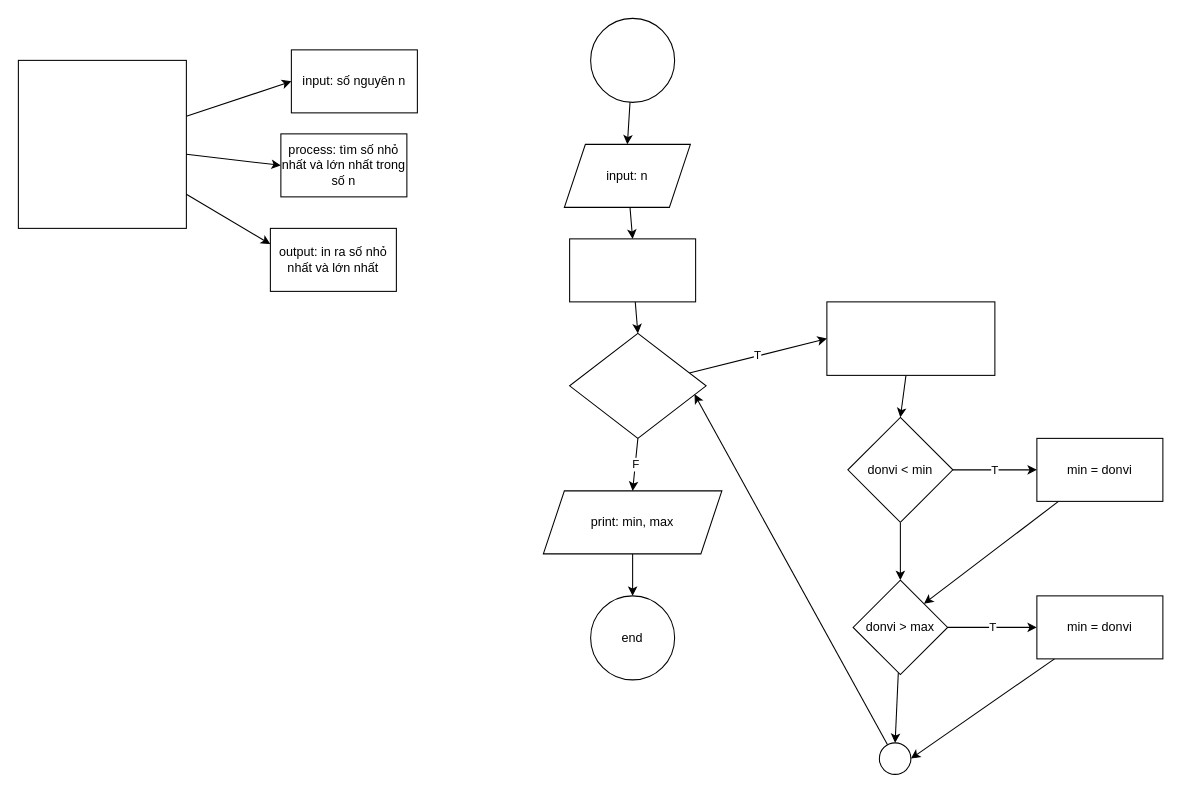
This 1181x793 diagram has some shape labels left out. The box of each missing label's shape, as (x1, y1, x2, y2) in pixels:
donvi = n % 10 n = n / 10: (826, 301, 995, 375)
min = n % 10 max = min n = n / 10: (569, 238, 696, 302)
n > 0: (569, 332, 706, 438)
nhập 1 số nguyên n, tìm số nhỏ nhất và lớn nhất trong dãy số n đó: (17, 59, 186, 228)
start: (590, 17, 675, 102)
